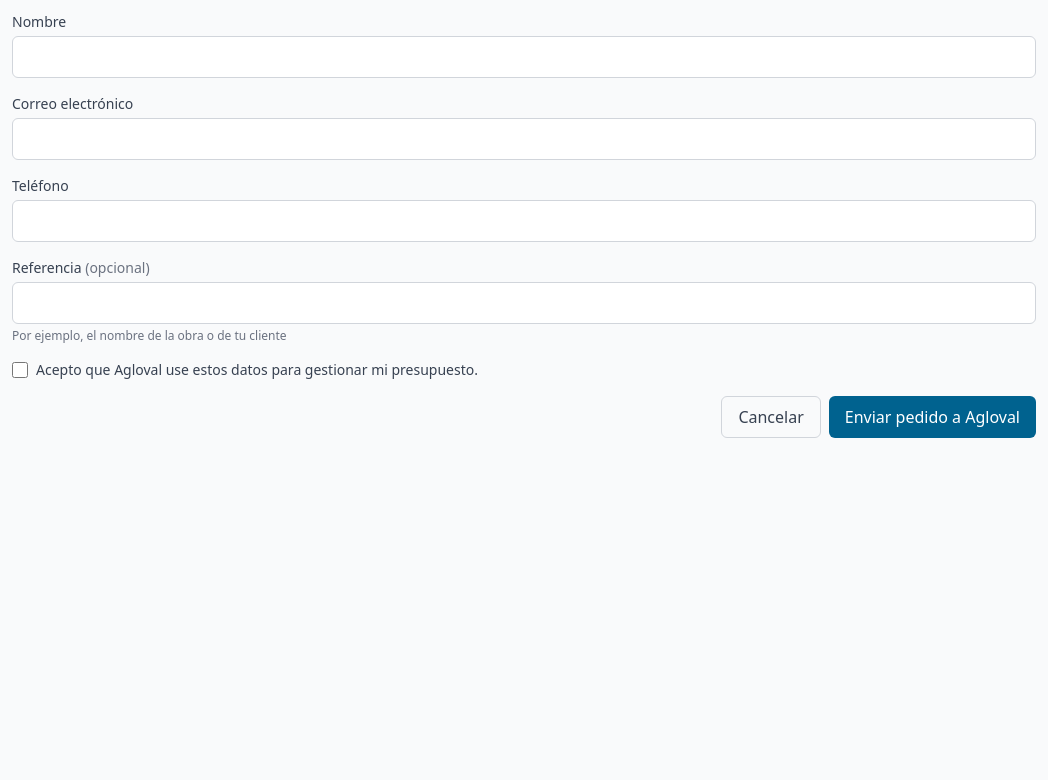
Scenario: CustomerDetailsForm › removes a field error as soon as the field becomes valid, without resubmitting
The width and height of the screenshot is (1048, 780).
Click the button "Enviar pedido a Agloval" at x=932, y=417, box [829,396,1036,438]
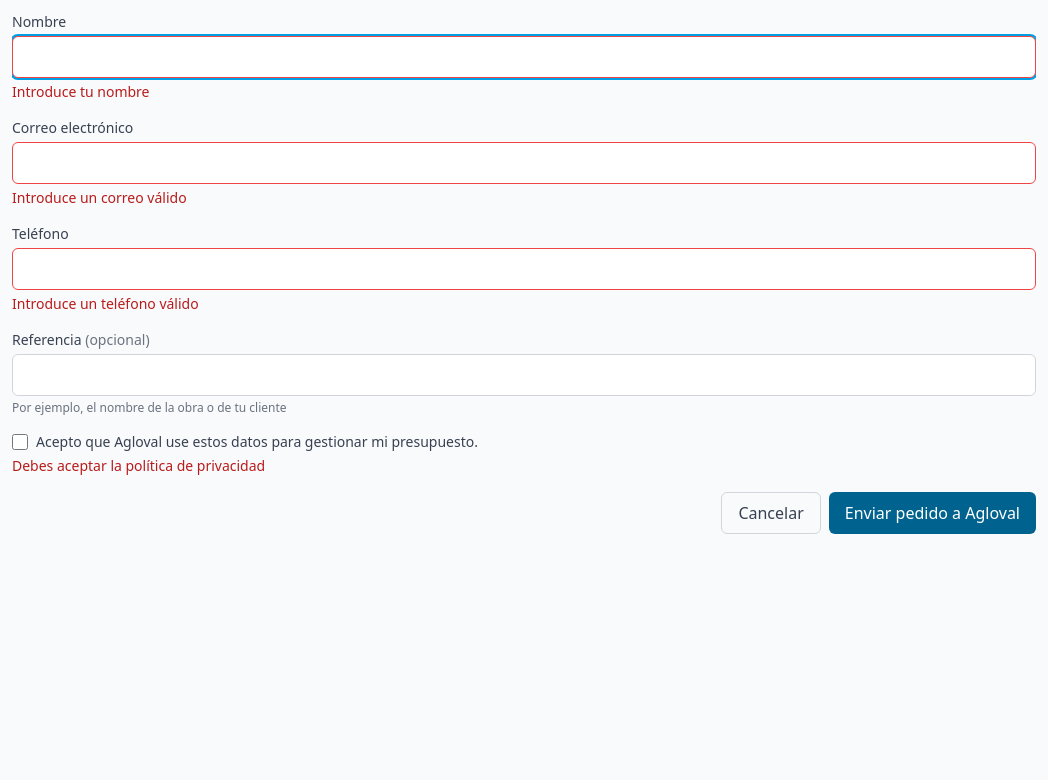
expect the text "Introduce tu nombre" is shown: met, box [12,82,150,101]
Type "Lucía" into the field labelled "Nombre" at x=524, y=57, box [12,36,1036,78]
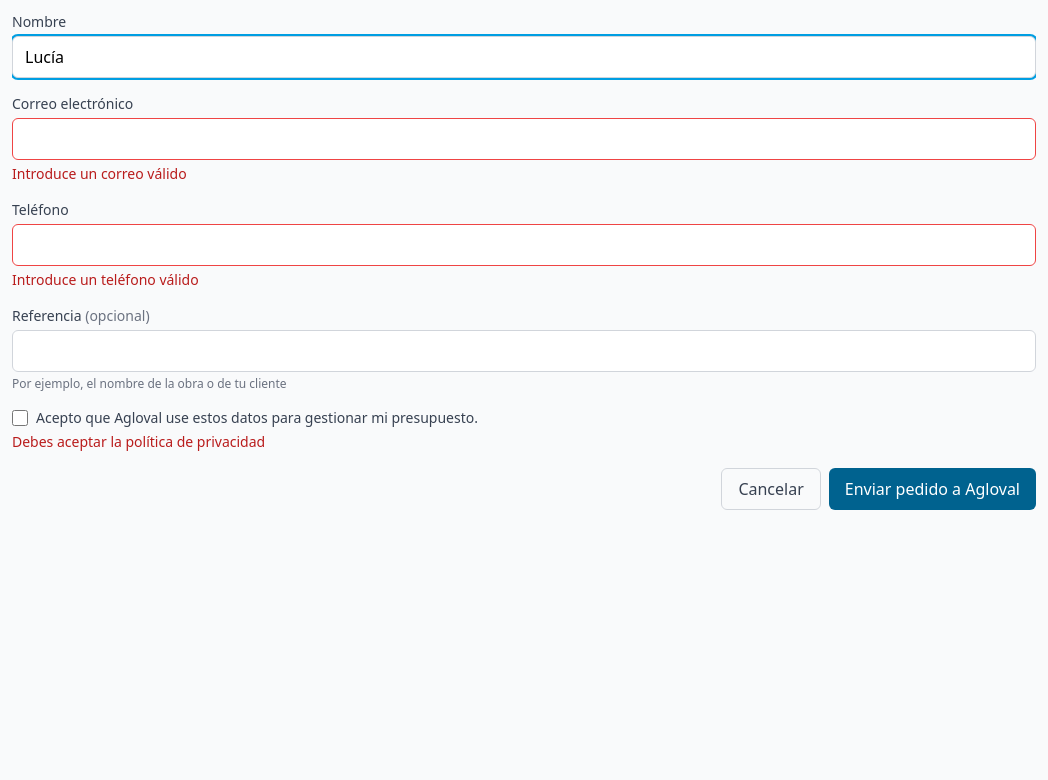
Click the checkbox labelled "Acepto que Agloval use estos datos para gestionar mi presupuesto." at x=20, y=418, box [12,410,28,426]
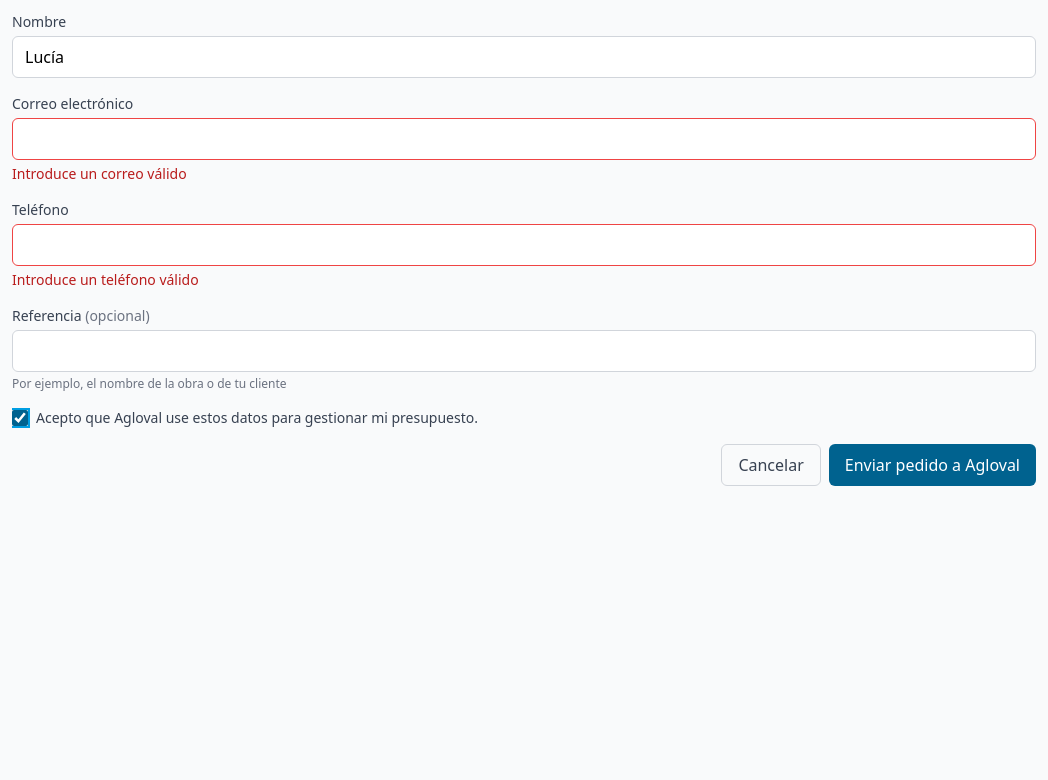
expect the text "Introduce tu nombre" is not shown: met
expect the text "Introduce un correo válido" is shown: met, box [12,164,187,183]
expect the text "Debes aceptar la política de privacidad" is gone: met
